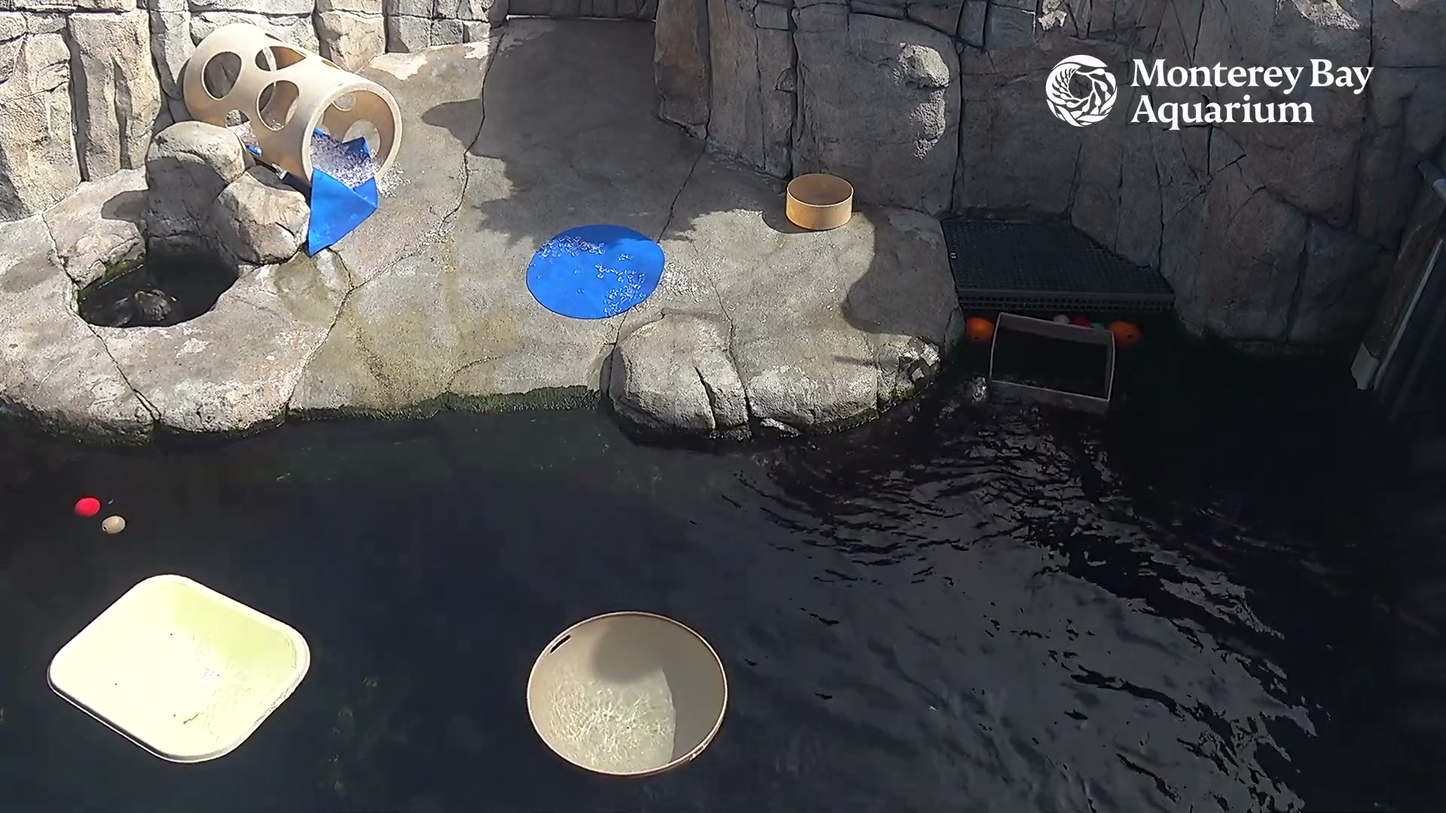Southern Sea Otter: (95, 274, 185, 324)
